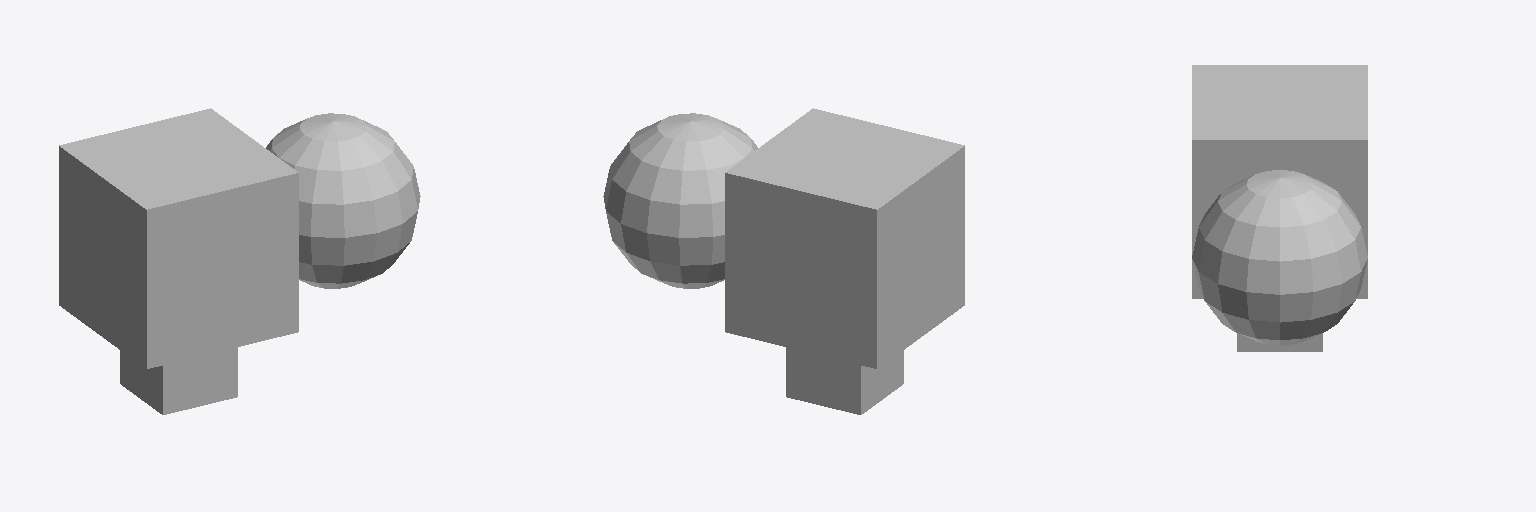
Rendered from randomthing.obj.
3 renders of one model, left to right at view 1: azimuth 30°, elevation 25°; view 2: azimuth 150°, elevation 25°; view 3: azimuth 270°, elevation 25°, orthographic.
Visible parts, largest first — view 1: Cube6, sphere8, Cube7; view 2: Cube6, sphere8, Cube7; view 3: sphere8, Cube6, Cube7.
Part boxes in pixels (left/top/right/bottom): Cube6: left=59, top=108, right=298, bottom=368; sphere8: left=266, top=113, right=420, bottom=288; Cube7: left=120, top=347, right=237, bottom=414; Cube6: left=725, top=108, right=964, bottom=368; sphere8: left=603, top=113, right=757, bottom=288; Cube7: left=786, top=347, right=903, bottom=414; sphere8: left=1192, top=170, right=1367, bottom=345; Cube6: left=1192, top=65, right=1367, bottom=298; Cube7: left=1237, top=333, right=1322, bottom=351.
Size of the model in its own units: 4.03 by 2.9 by 2.